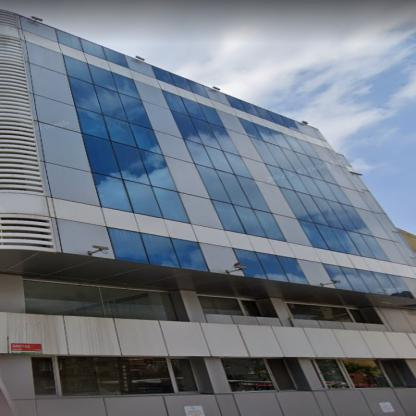window: (238, 118, 390, 261), (65, 56, 185, 220), (162, 90, 288, 242), (26, 280, 181, 320), (33, 358, 201, 394), (108, 226, 209, 272), (322, 264, 416, 298), (233, 247, 310, 284), (228, 94, 299, 130), (56, 31, 127, 66), (314, 360, 389, 390), (151, 65, 212, 98), (223, 361, 276, 392), (288, 303, 373, 322), (197, 295, 264, 315)
